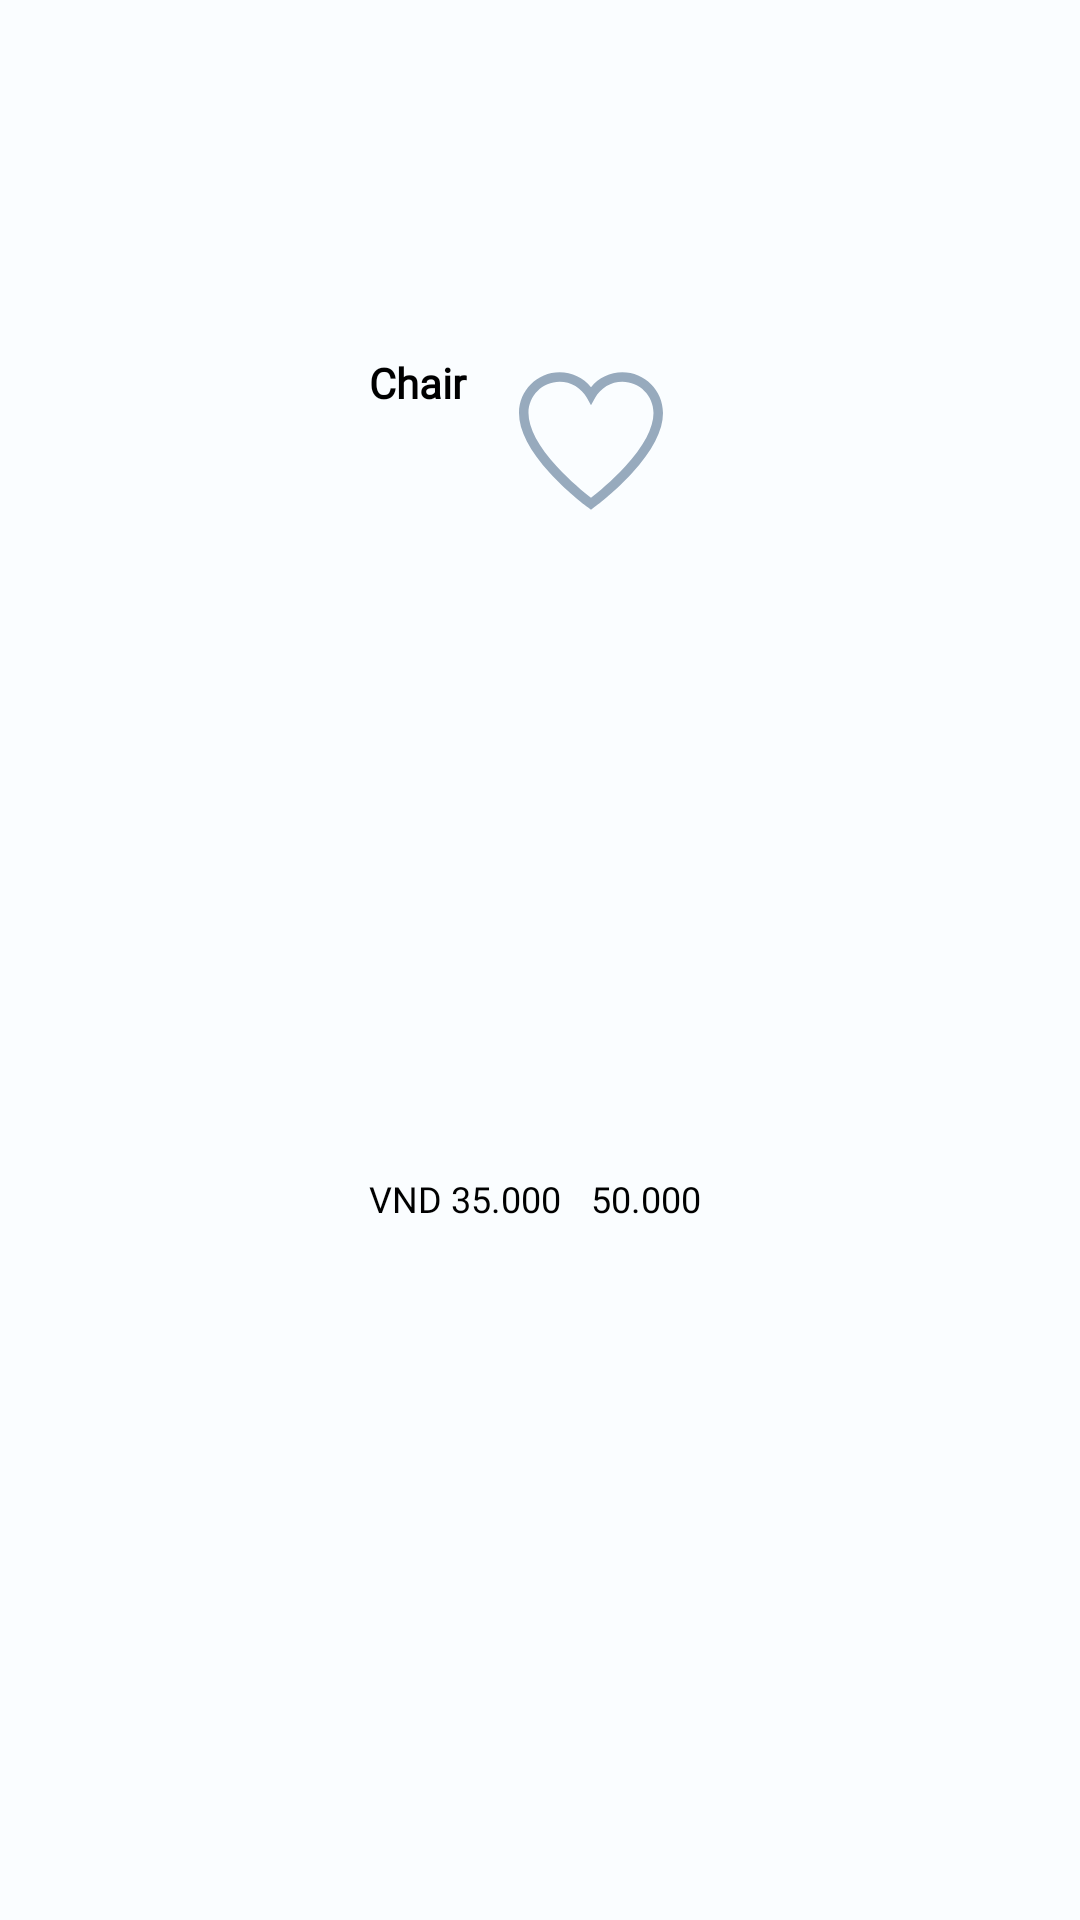

Screen size 1080px×1920px. Icon name, then its center in pixels as (x=x, y=y):
favorite: (x=591, y=441)
